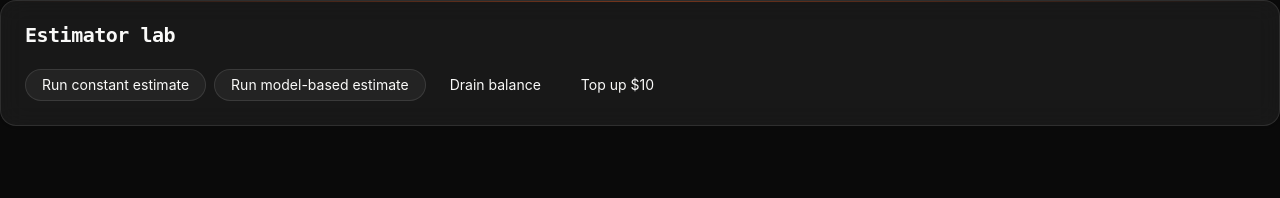
Test: LabRunner › tops up $10 and reports the new balance
Click the button "Top up $10" at (617, 85), box [565,69,670,101]
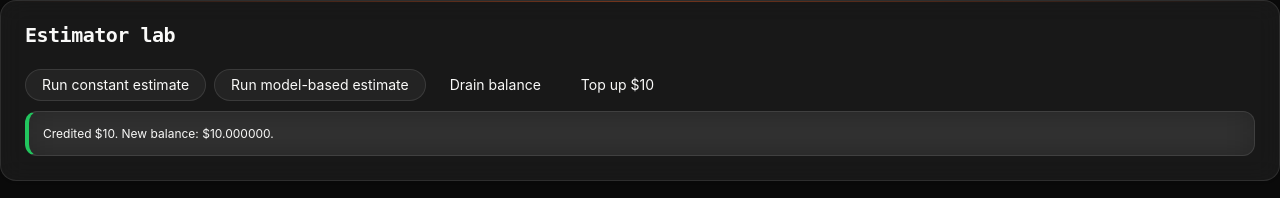
Now the text "Credited $10. New balance: $10.000000." is shown, box [25,111,1255,156]
